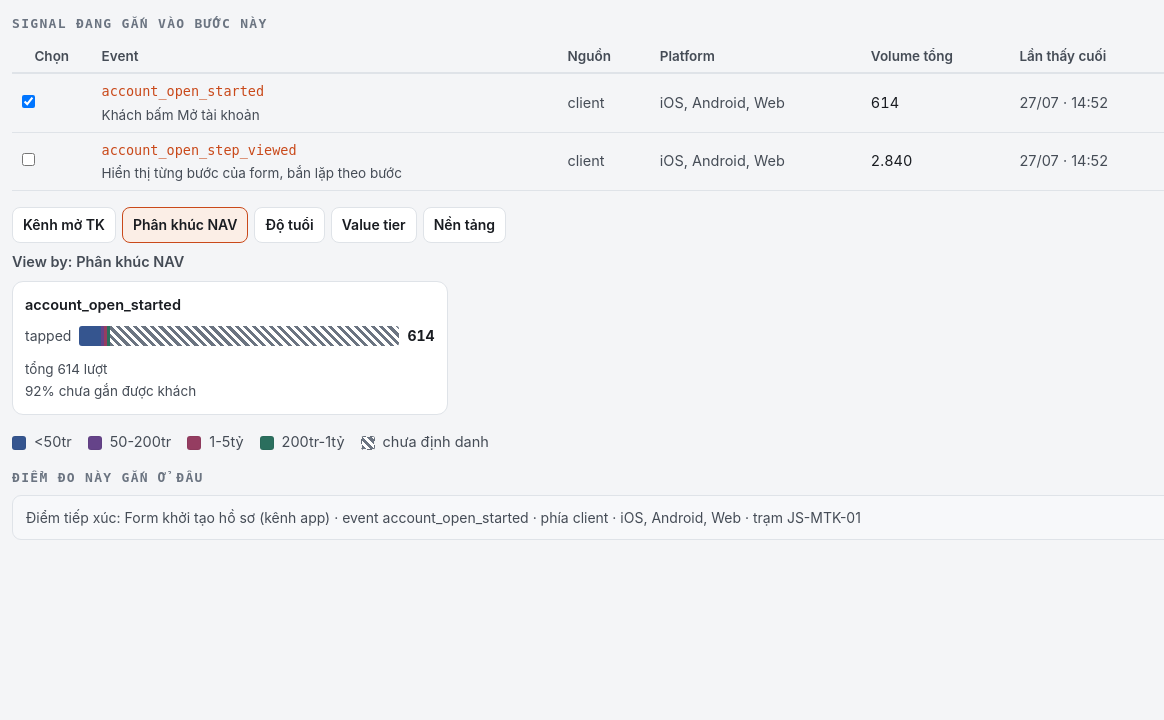
Test case: AtlasSignalPanel — bảng signal (checkbox) + chart điểm đo + panel gắn ở đâu › b) bỏ tick signal đang chọn duy nhất → KHÔNG có chart (luật 11/08: đã bỏ câu mời chọn)
What coordinates should you click on to do the following:
click the checkbox named "Chọn điểm đo account_open_started"
I would click on:
 (28, 101)
Its box is x1=22 y1=95 x2=35 y2=108.
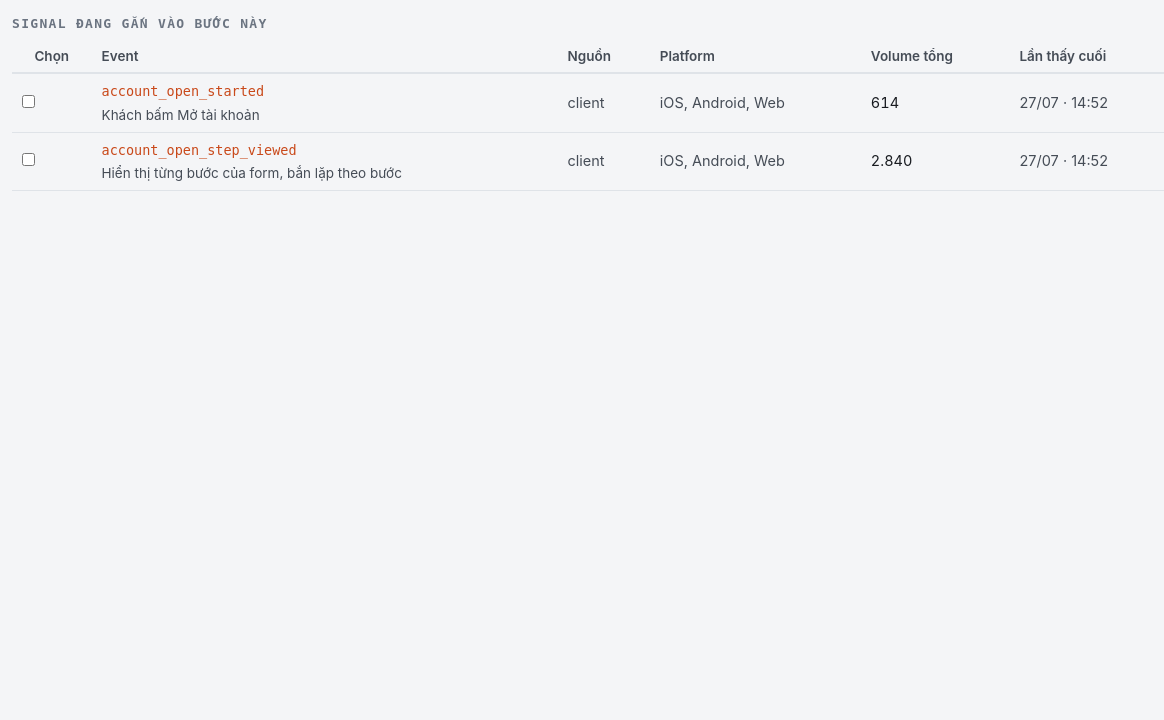
Check: the element with test id "signal-columns" is gone
